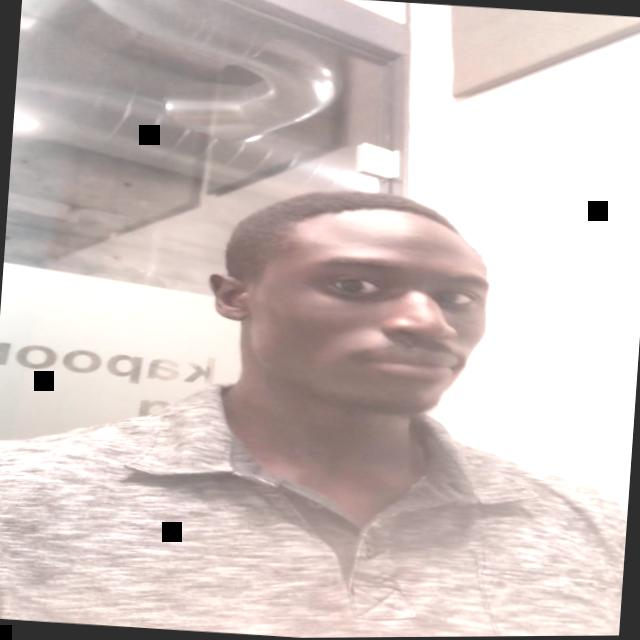NO-Mask: (225, 204, 493, 421)
